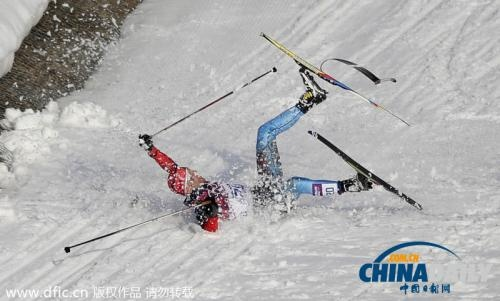falling: (111, 67, 395, 236)
